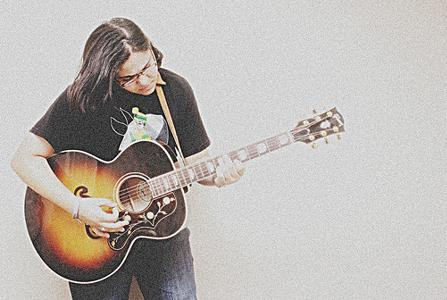person: (9, 19, 244, 300)
